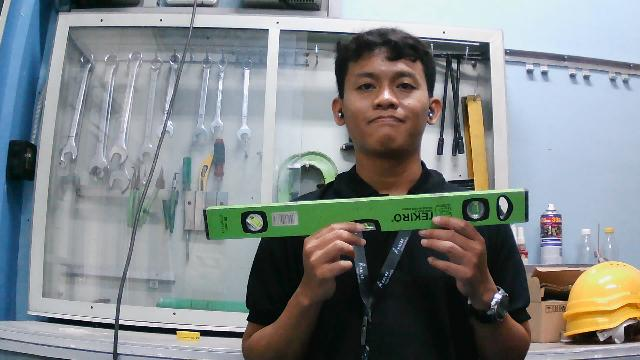water_pass: (203, 185, 531, 240)
